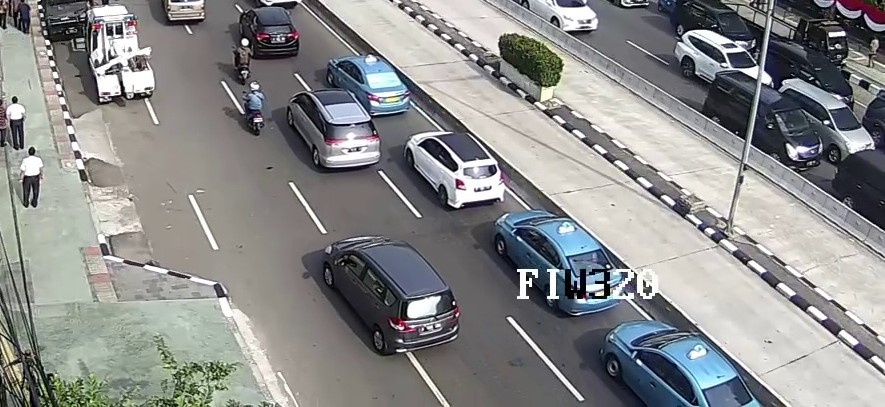car: (324, 235, 462, 357), (600, 320, 763, 407), (495, 211, 621, 319), (704, 71, 821, 174), (773, 77, 871, 173), (759, 38, 856, 123), (723, 3, 844, 69), (287, 90, 382, 172), (406, 132, 504, 208), (676, 30, 774, 101), (87, 7, 155, 101), (327, 55, 407, 119), (672, 3, 758, 59), (239, 6, 299, 61), (523, 1, 597, 34)
motorbike: (245, 82, 266, 135), (234, 38, 253, 84)
